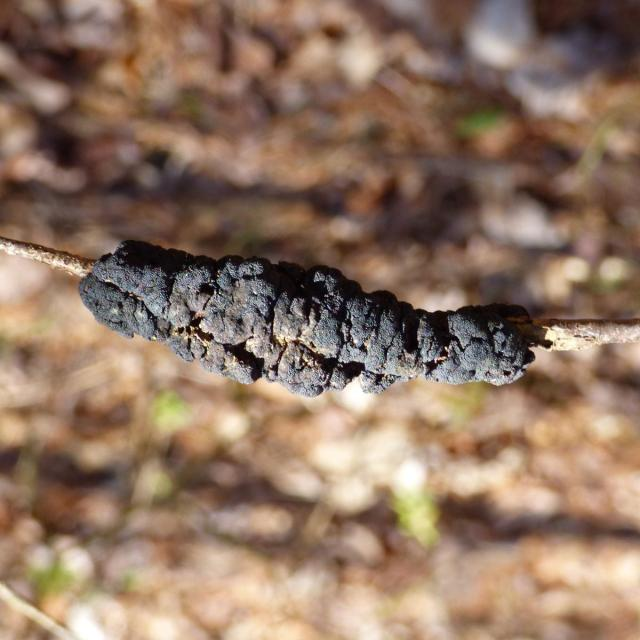Black_knot: (76, 237, 539, 398)
